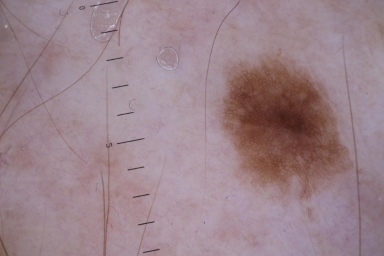nevus: (224, 54, 356, 199)
